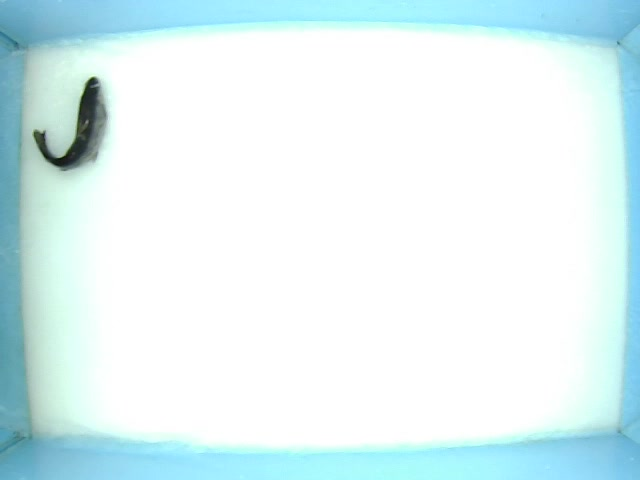fish: (24, 71, 116, 181)
